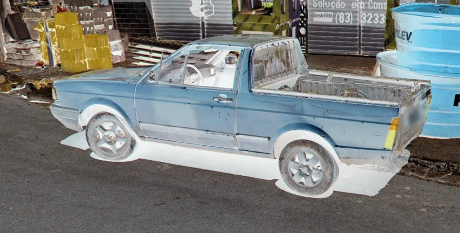car: (49, 34, 434, 202)
